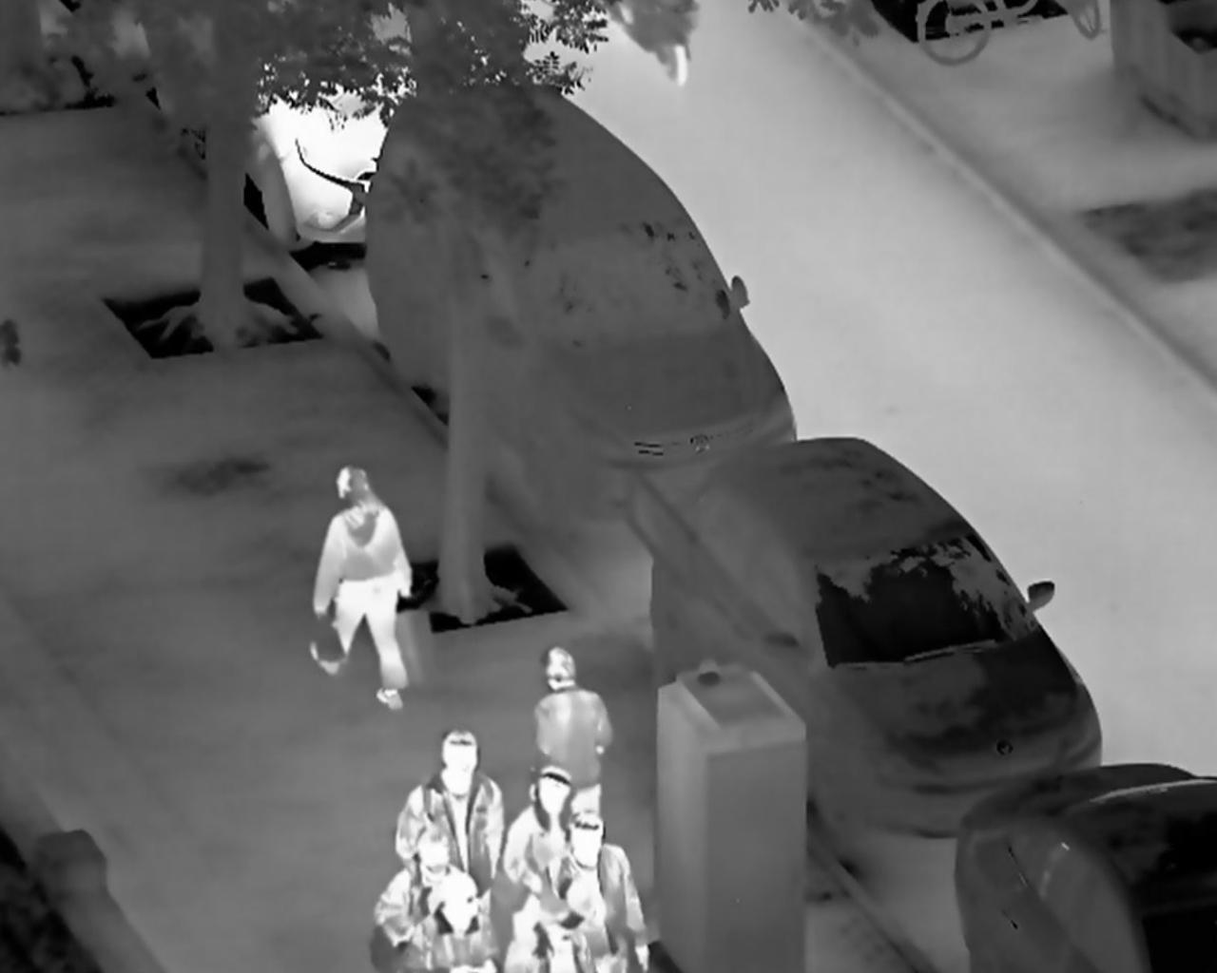person: (301, 463, 419, 715), (397, 729, 502, 939), (543, 810, 650, 973), (368, 828, 475, 973), (531, 642, 615, 826), (505, 765, 583, 927)
